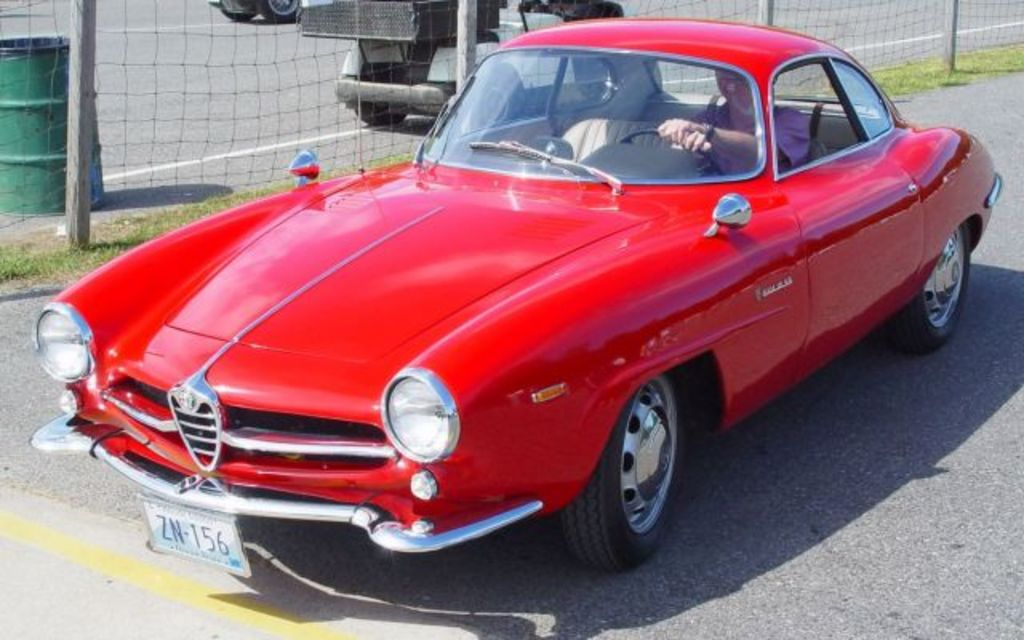Human_hand: (658, 118, 712, 142), (677, 130, 715, 152)
